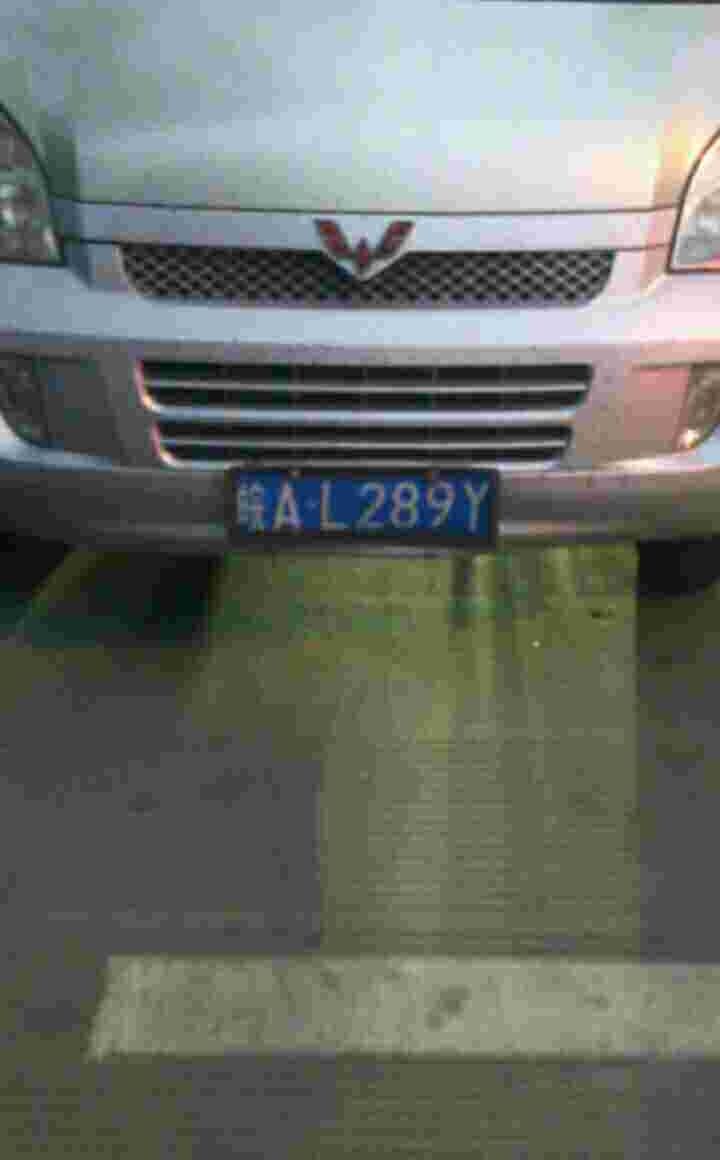plate: (229, 467, 506, 543)
